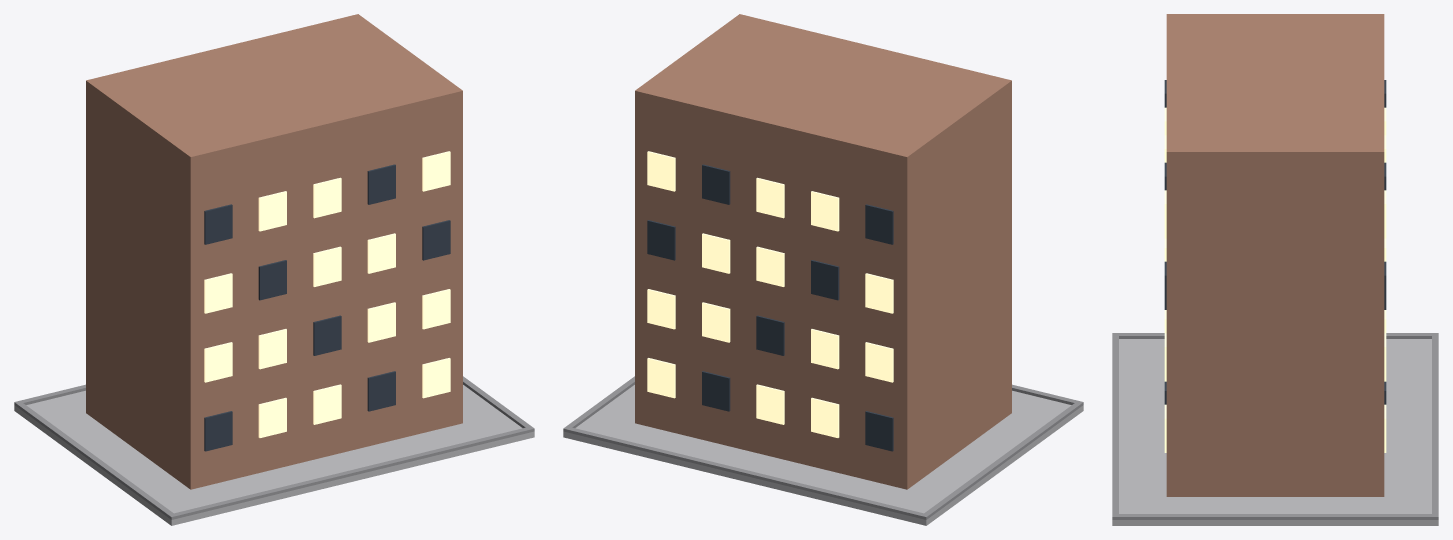
File: bt-midrise-2.glb
3 renders of one model, left to right at view 1: azimuth 30°, elevation 25°; view 2: azimuth 150°, elevation 25°; view 3: azimuth 270°, elevation 25°, orthographic. The views are drawn at different scales.
Parts seen in each view (by area): view 1: body, skirt_slab, skirt_curb_s, skirt_curb_w, win_s_1_0, win_s_1_3, win_s_2_0, win_s_3_0, win_s_3_4, win_s_0_2, win_s_2_2, win_s_0_1 (+12 smaller); view 2: body, skirt_slab, skirt_curb_n, skirt_curb_w, win_n_1_0, win_n_1_3, win_n_2_0, win_n_3_0, win_n_3_4, win_n_0_2, win_n_2_2, win_n_0_1 (+12 smaller); view 3: body, skirt_slab, skirt_curb_e, skirt_curb_n, skirt_curb_s, skirt_curb_w.
Part boxes in pixels (bbox=[...]): body: bbox=[86, 14, 462, 489]; skirt_slab: bbox=[14, 385, 534, 525]; skirt_curb_s: bbox=[168, 426, 534, 519]; skirt_curb_w: bbox=[17, 403, 173, 517]; win_s_1_0: bbox=[204, 342, 232, 382]; win_s_1_3: bbox=[367, 302, 395, 342]; win_s_2_0: bbox=[204, 273, 232, 313]; win_s_3_0: bbox=[204, 204, 232, 244]; win_s_3_4: bbox=[422, 151, 450, 191]; win_s_0_2: bbox=[313, 384, 341, 424]; win_s_2_2: bbox=[313, 246, 341, 286]; win_s_0_1: bbox=[258, 397, 286, 437]; body: bbox=[635, 14, 1011, 489]; skirt_slab: bbox=[563, 385, 1083, 525]; skirt_curb_n: bbox=[563, 426, 929, 519]; skirt_curb_w: bbox=[924, 403, 1080, 517]; win_n_1_0: bbox=[865, 342, 893, 382]; win_n_1_3: bbox=[702, 302, 730, 342]; win_n_2_0: bbox=[865, 273, 893, 313]; win_n_3_0: bbox=[865, 204, 893, 244]; win_n_3_4: bbox=[647, 151, 675, 191]; win_n_0_2: bbox=[756, 384, 784, 424]; win_n_2_2: bbox=[756, 246, 784, 286]; win_n_0_1: bbox=[811, 397, 839, 437]; body: bbox=[1166, 14, 1384, 496]; skirt_slab: bbox=[1112, 339, 1438, 525]; skirt_curb_e: bbox=[1119, 514, 1431, 519]; skirt_curb_n: bbox=[1432, 333, 1438, 519]; skirt_curb_s: bbox=[1112, 333, 1118, 519]; skirt_curb_w: bbox=[1119, 333, 1431, 338].
Bounding box in the file's own units: 16 × 14.25 × 12.
